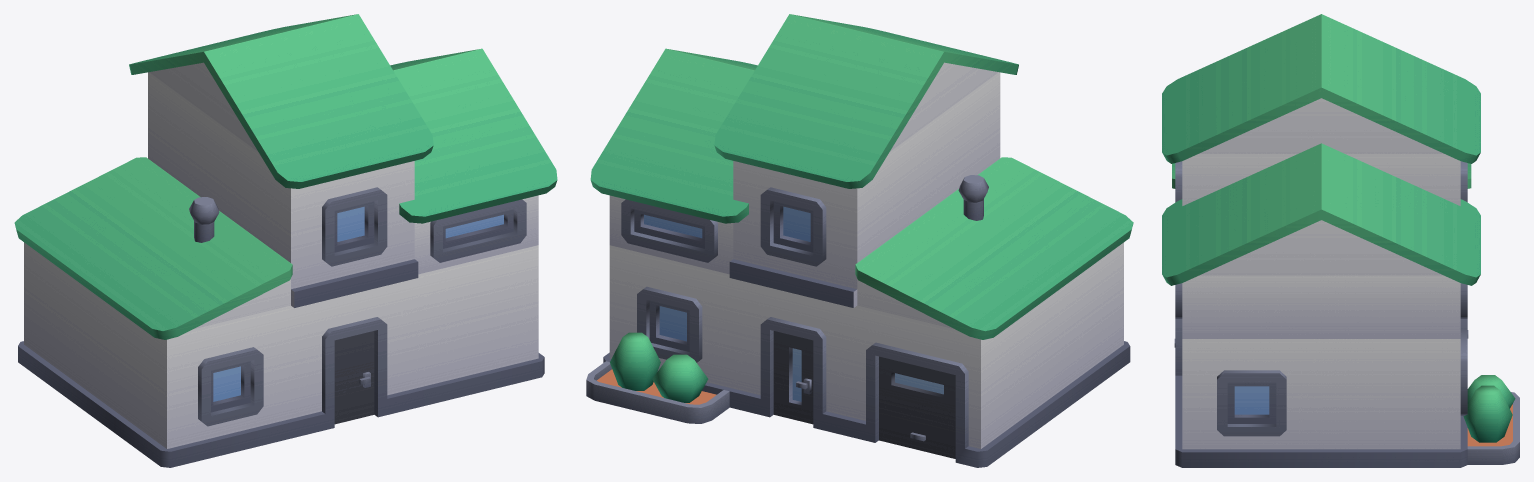
The model's file is small_house.glb.
3 renders of one model, left to right at view 1: azimuth 30°, elevation 25°; view 2: azimuth 150°, elevation 25°; view 3: azimuth 270°, elevation 25°, orthographic. The views are drawn at different scales.
Parts seen in each view (by area): view 1: building-type-c; view 2: building-type-c; view 3: building-type-c.
Boxes of the visible parts, bbox=[...] form: building-type-c: bbox=[14, 14, 557, 467]; building-type-c: bbox=[586, 14, 1133, 467]; building-type-c: bbox=[1162, 14, 1519, 467].
Bounding box in the file's own units: 1.29 × 1.03 × 1.03.
1 material, 1 textured.
